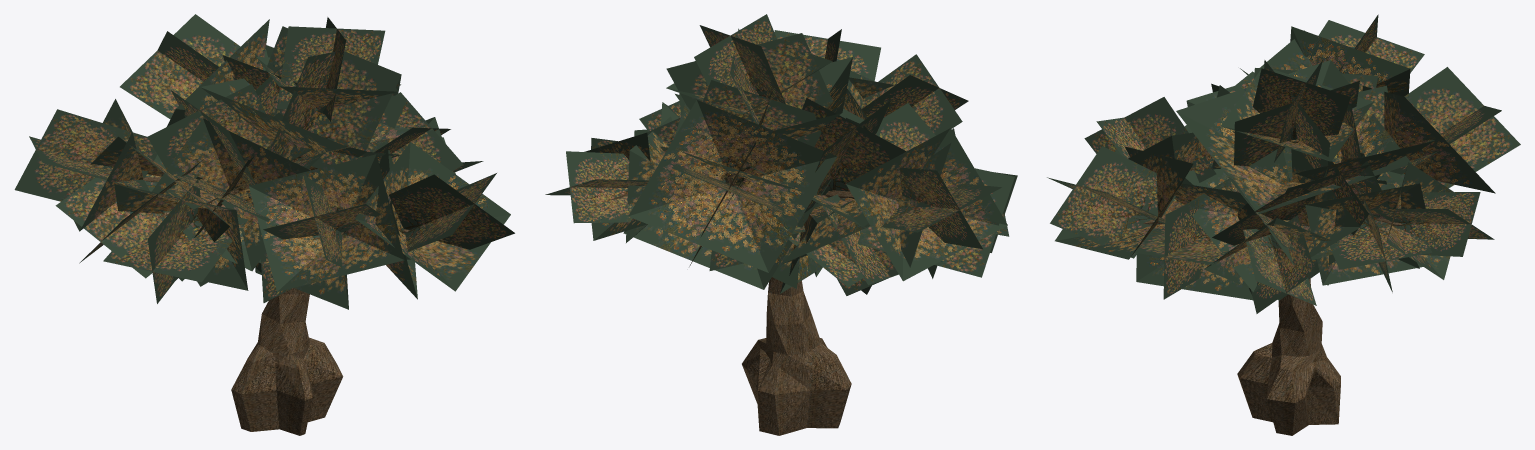
Rendered from decd_oaktreeleaves_a1_l0.fbx.
The picture shows the model from 3 angles, left to right: view 1: azimuth 30°, elevation 25°; view 2: azimuth 150°, elevation 25°; view 3: azimuth 270°, elevation 25°; orthographic projection. The views are drawn at different scales.
Visible parts, largest first — view 1: mesh_node; view 2: mesh_node; view 3: mesh_node.
Boxes of the visible parts, x1,y1,x2,y2 form: mesh_node: (14, 14, 514, 435); mesh_node: (545, 14, 1017, 435); mesh_node: (1047, 14, 1520, 435).
Bounding box in the file's own units: 34.15 × 30.27 × 35.08.
Materials: 3 (3 with a texture image).
